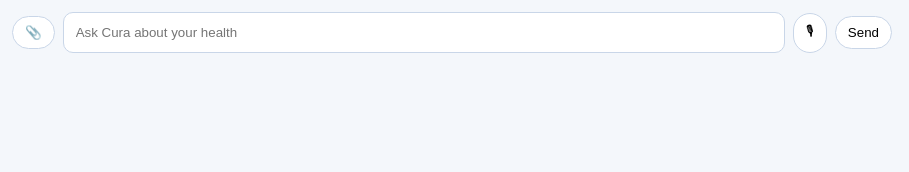
Test: Composer voice input › explains an unsupported browser
Click the button named "Start voice input".
click(810, 32)  # box [793,12,827,52]
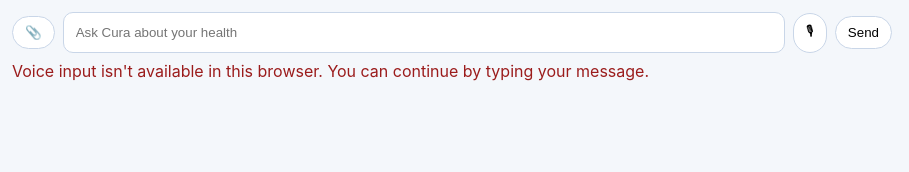
Expected: the text "isn't available in this browser" is shown, [12,61,649,81]
